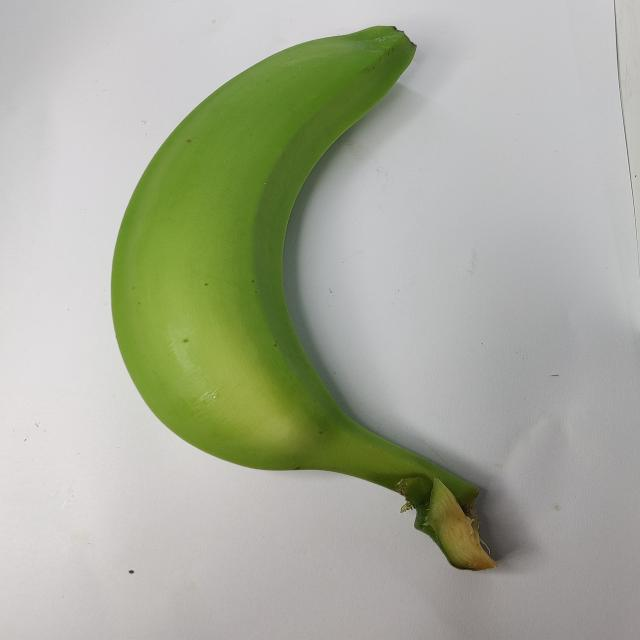Raw: (100, 12, 554, 594)
